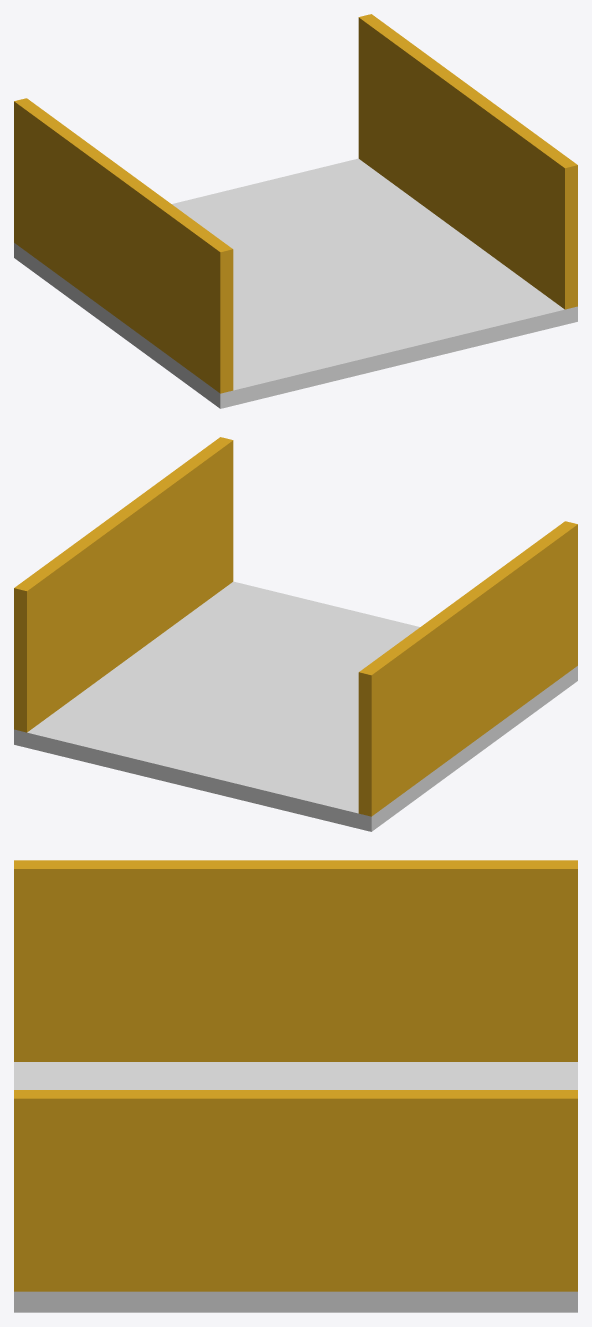
File: platform.fbx
3 views of the same model, one above another, from view 1: azimuth 30°, elevation 25°; view 2: azimuth 150°, elevation 25°; view 3: azimuth 270°, elevation 25° (orthographic). The views are drawn at different scales.
Visible parts, largest first — view 1: Cube; view 2: Cube; view 3: Cube.
Part boxes in pixels (x1,y1,x2,y2): Cube: (14, 14, 577, 408); Cube: (14, 437, 577, 831); Cube: (14, 860, 577, 1312).
Size of the model in its own units: 200 by 83.72 by 200.
